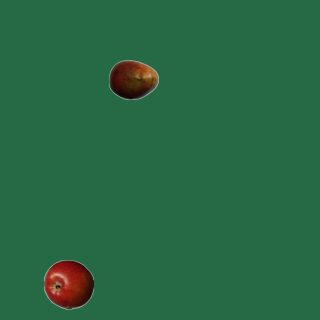Apple Braeburn: (43, 259, 93, 309)
Mango Red: (108, 54, 158, 104)
